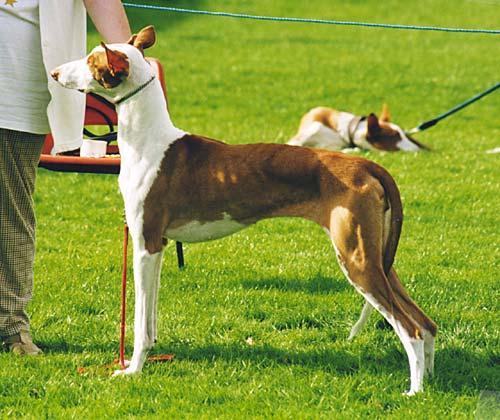Ibizan_hound: (49, 24, 441, 402), (286, 102, 428, 152)
